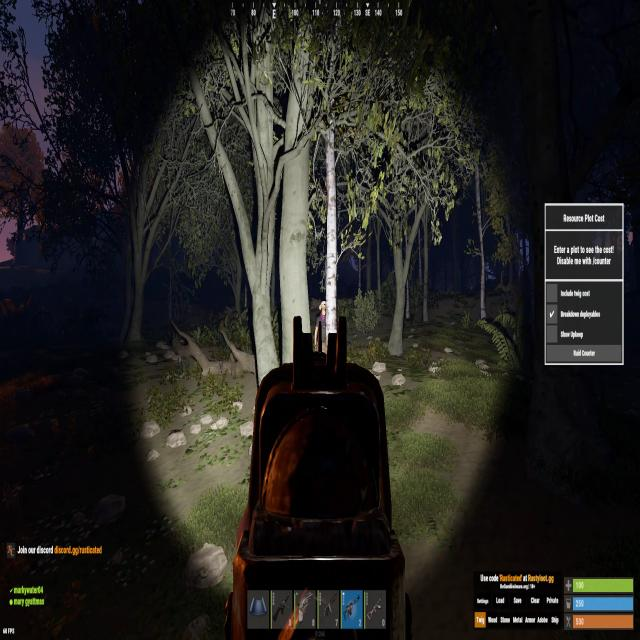Player: (314, 300, 327, 354)
